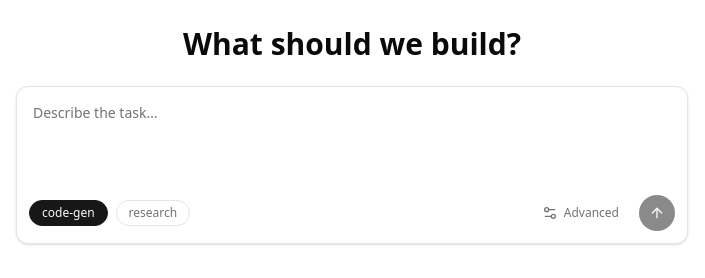
Scenario: TaskCreate (chat composer) › routes an unknown-field 400 to the form-level error
Type "p" into the text box with test id "prompt-input". click: (352,143)
box: [29,99,675,187]
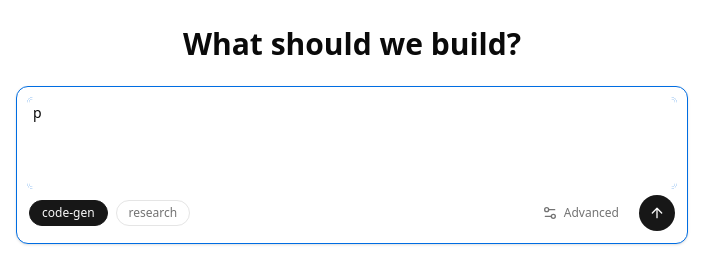
Click the button with test id "submit-button". click: (657,213)
box: [639,195,675,231]
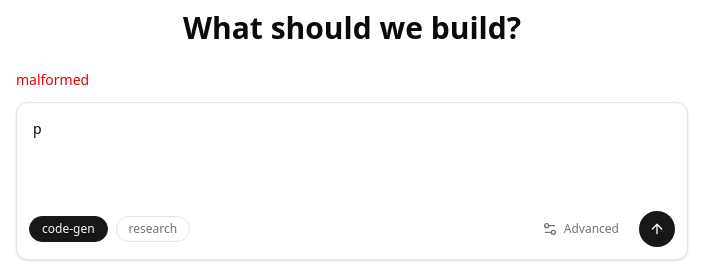
Now the text with test id "form-error" reads "malformed", box [16,70,89,89]
